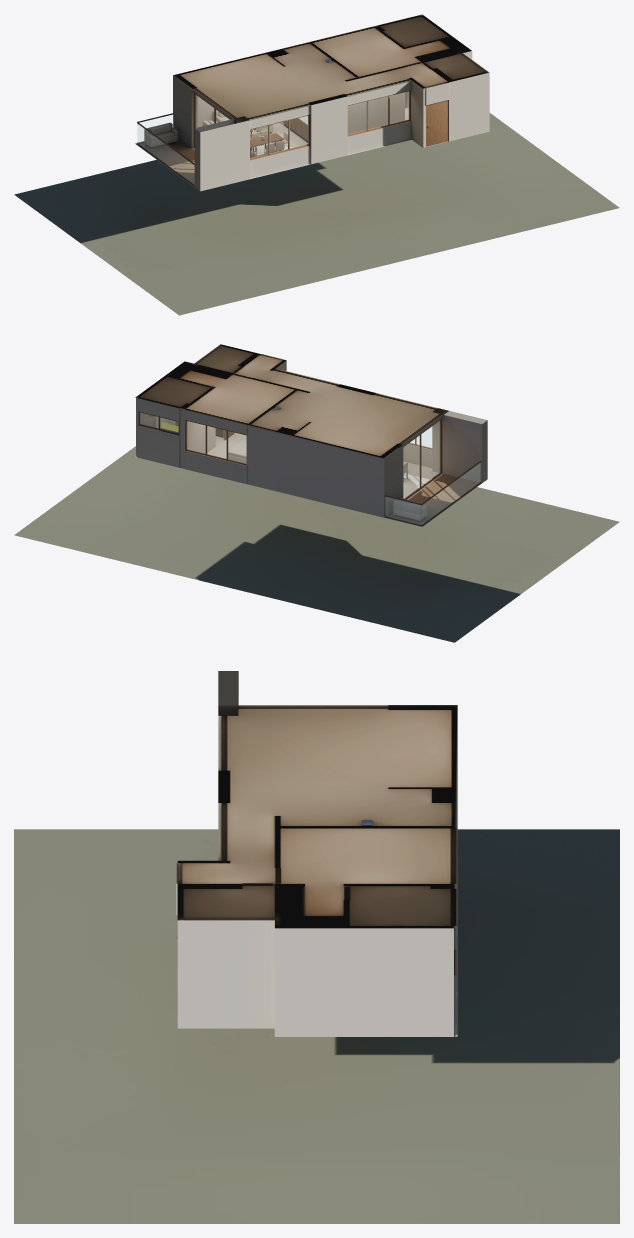
3 views of the same model, one above another, from view 1: azimuth 30°, elevation 25°; view 2: azimuth 150°, elevation 25°; view 3: azimuth 270°, elevation 25° (orthographic). The views are drawn at different scales.
Visible parts, largest first — view 1: D7_piso, D7_muros, D7_vidrio, D7_carp, D7_muebles; view 2: D7_piso, D7_muros, D7_vidrio, D7_carp, D7_muebles; view 3: D7_piso, D7_muros.
Boxes of the visible parts, x1,y1,x2,y2 form: D7_piso: (14, 91, 619, 315); D7_muros: (173, 14, 489, 191); D7_vidrio: (137, 91, 408, 183); D7_carp: (137, 90, 448, 185); D7_muebles: (144, 59, 429, 155); D7_piso: (14, 432, 619, 642); D7_muros: (135, 344, 487, 517); D7_vidrio: (140, 413, 480, 524); D7_carp: (138, 411, 480, 526); D7_muebles: (148, 407, 426, 522); D7_piso: (14, 829, 619, 1223); D7_muros: (176, 671, 457, 1036).
Size of the model in its own units: 23 by 6.17 by 14.94.
5 materials, 4 textured.
